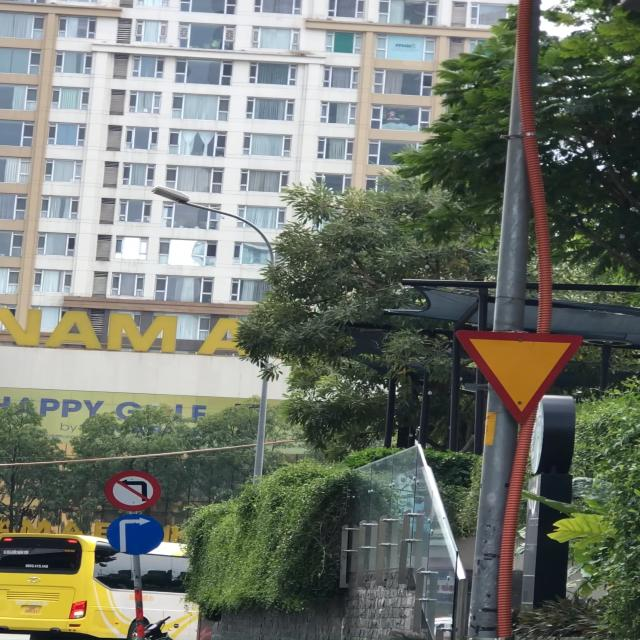Bien bao cam re trai: (99, 468, 163, 513)
Bien bao giao nhau voi duong uu tien: (453, 327, 590, 428)
Bien bao huong di phai theo: (104, 512, 172, 558)
